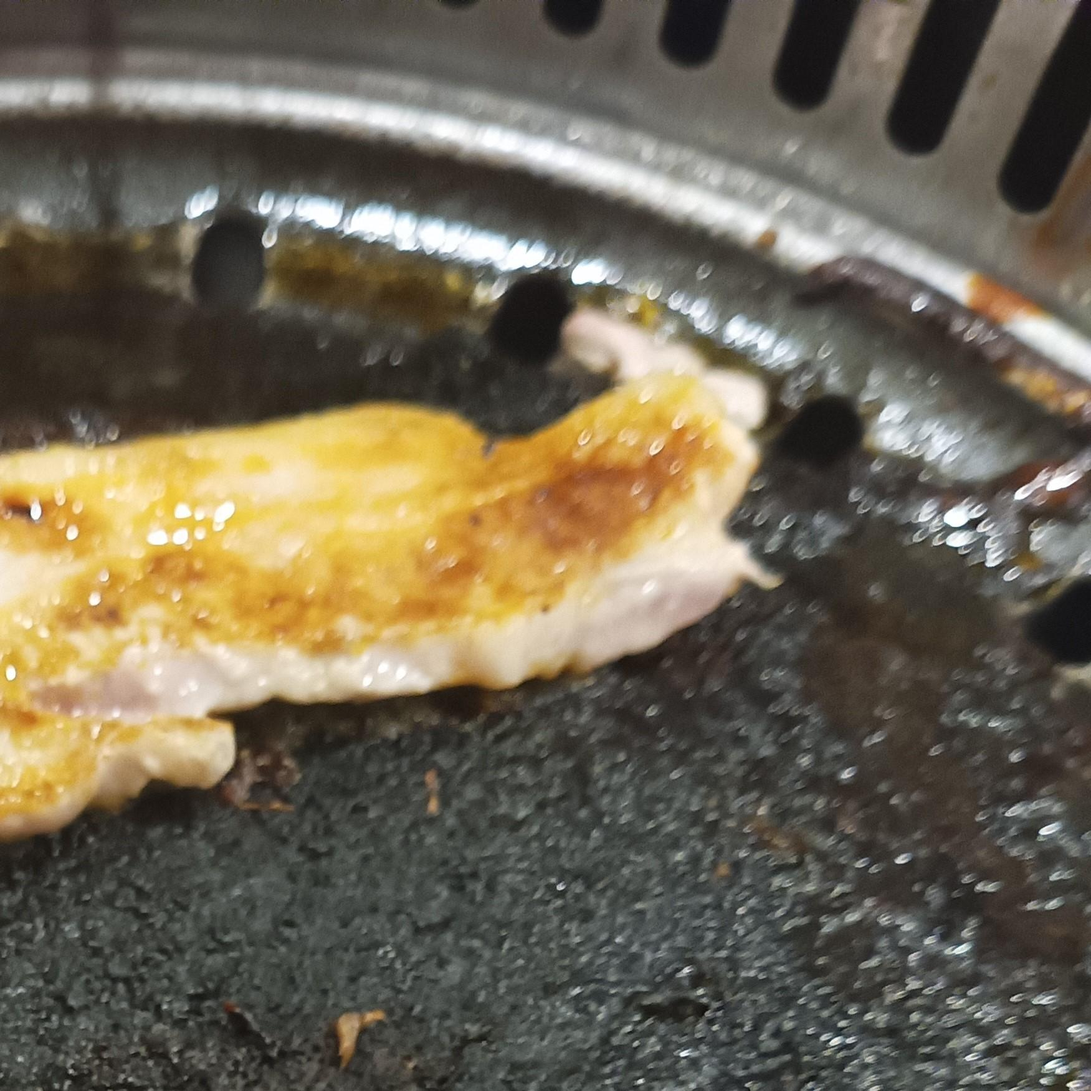Undercooked: (0, 369, 782, 827)
